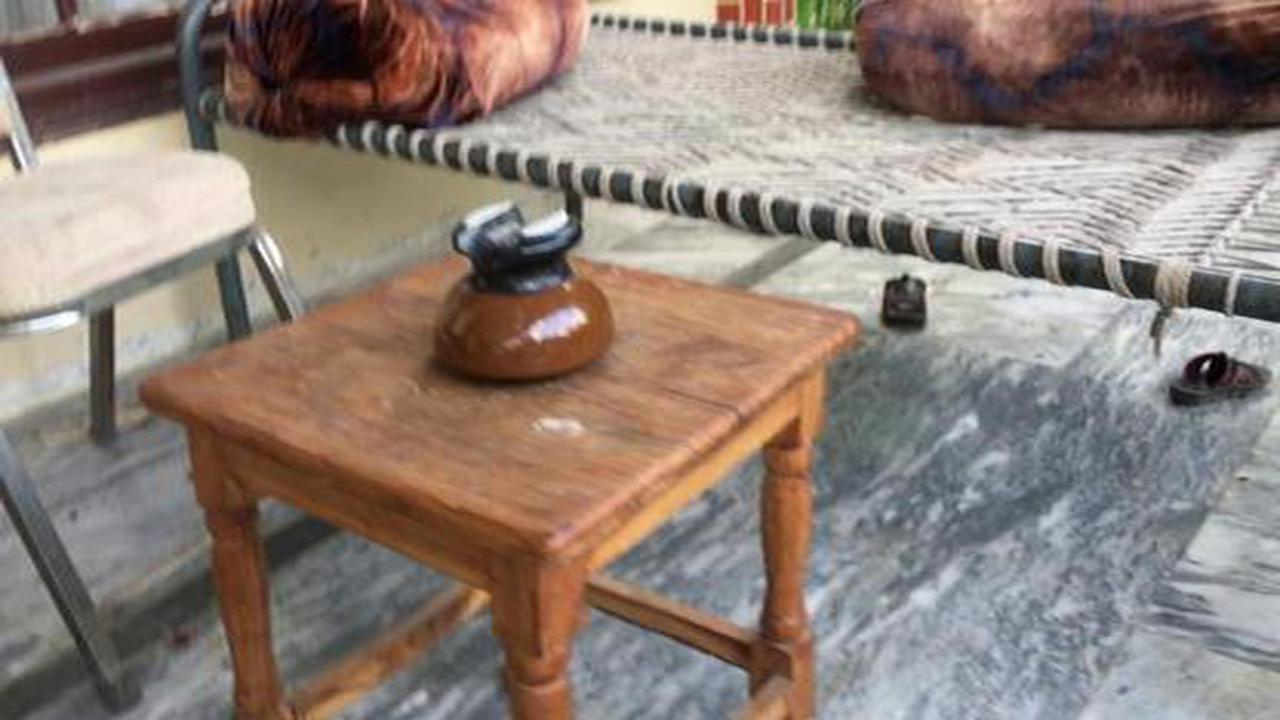insulator_pin: (416, 184, 625, 395)
